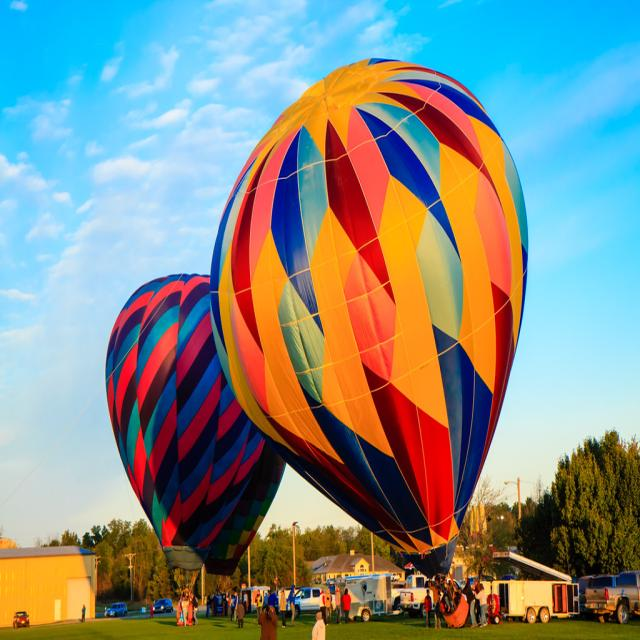balloon: (209, 56, 530, 581), (105, 271, 287, 578)
